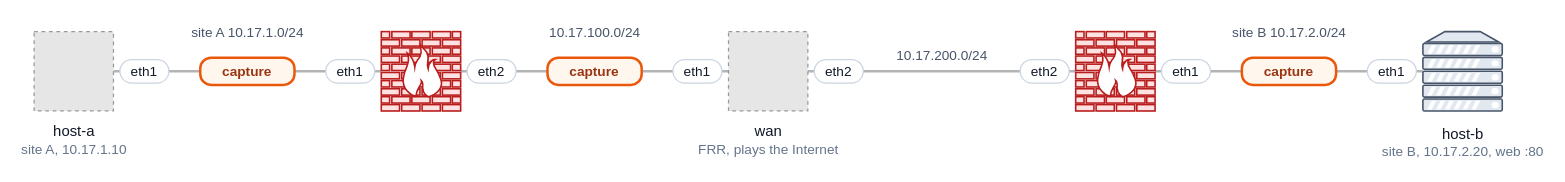
This 1565x182 diagram has some shape labels left out. Grey dashed boxes stand in for pictures. Each missing label, with the centre of its shape:
gw-a strongSwan, outside 10.17.100.1: (x=420, y=71)
gw-b strongSwan, outside 10.17.200.1: (x=1115, y=71)
